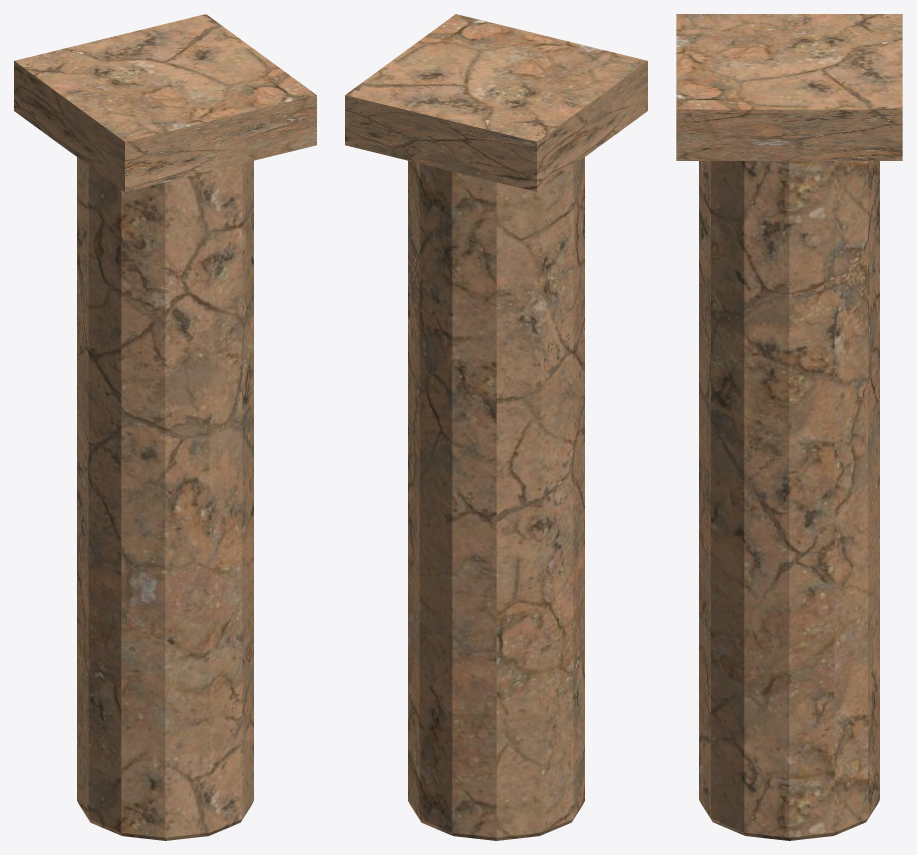
Rendered from pillar.glb.
The picture shows the model from 3 angles, left to right: view 1: azimuth 30°, elevation 25°; view 2: azimuth 150°, elevation 25°; view 3: azimuth 270°, elevation 25°; orthographic projection. The views are drawn at different scales.
Visible parts, largest first — view 1: pillar; view 2: pillar; view 3: pillar.
Boxes of the visible parts, x1,y1,x2,y2 form: pillar: [14, 14, 316, 840]; pillar: [345, 14, 647, 840]; pillar: [676, 14, 902, 840].
Size of the model in its own units: 0.7 by 2.54 by 0.7.
Materials: 1 (1 with a texture image).
